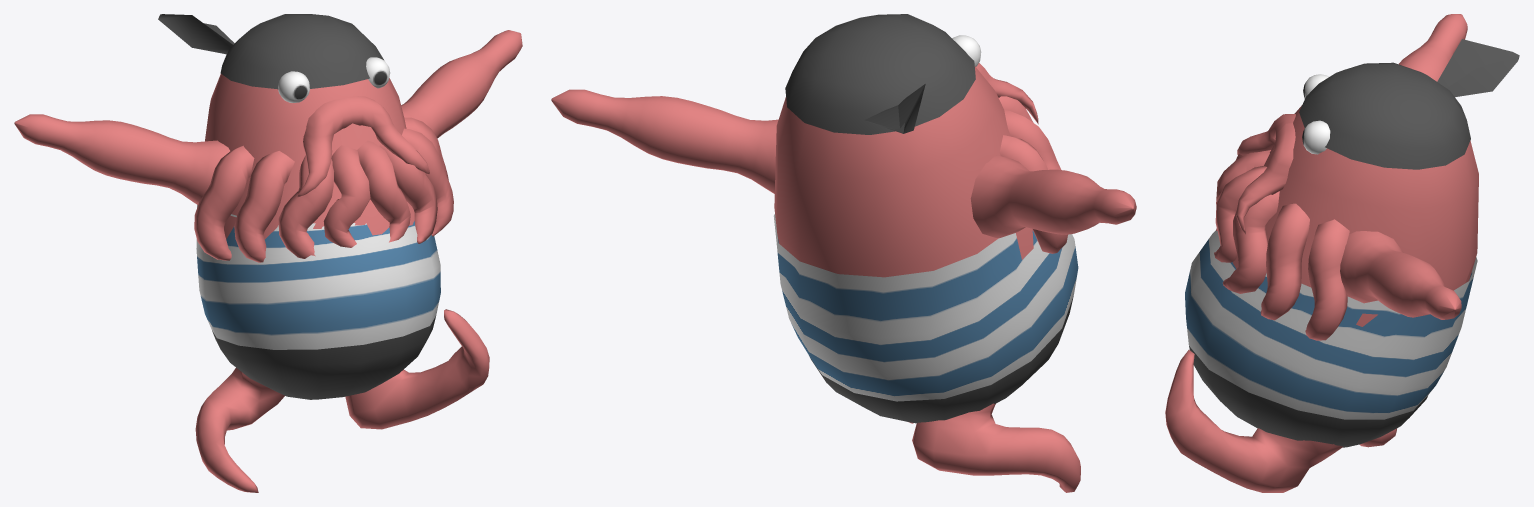
The model's file is tako_P01.fbx.
3 renders of one model, left to right at view 1: azimuth 30°, elevation 25°; view 2: azimuth 150°, elevation 25°; view 3: azimuth 270°, elevation 25°, orthographic. The views are drawn at different scales.
Parts seen in each view (by area): view 1: tako_P01; view 2: tako_P01; view 3: tako_P01.
Part boxes in pixels (x1,y1,x2,y2): tako_P01: (14, 14, 522, 492); tako_P01: (551, 14, 1136, 492); tako_P01: (1165, 14, 1519, 492).
Size of the model in its own units: 11.14 by 8.62 by 6.38.
Materials: 1 (1 with a texture image).
